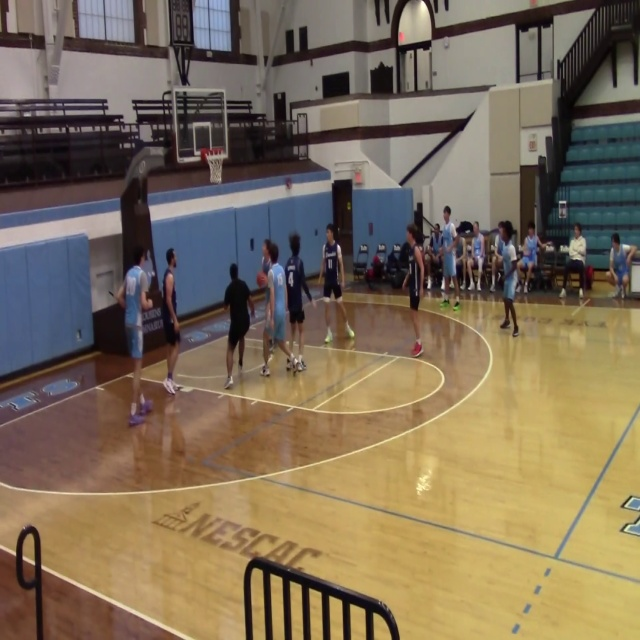Basketball: (256, 272, 267, 288), (452, 304, 460, 312)
